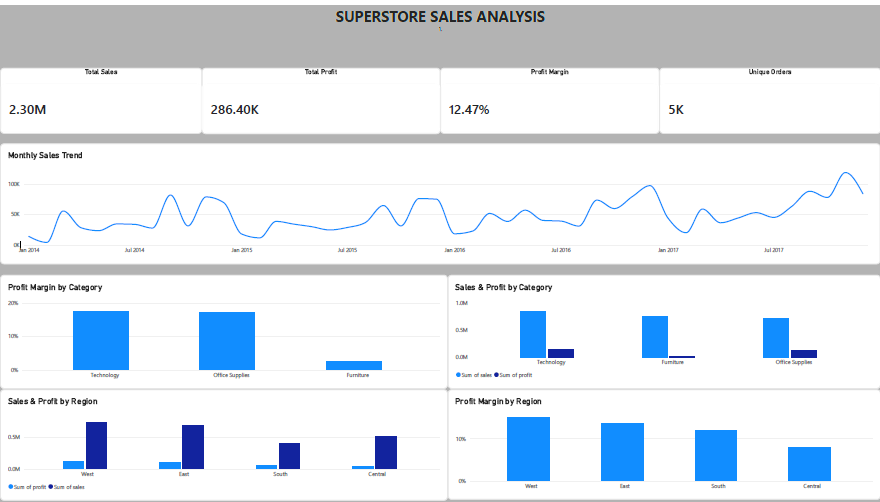

What the dashboard file says about the page in this screenshot:
{"tool":"powerbi","page":{"name":"Superstore Sales Analysis","canvas":[1920,1080],"ordinal":1},"visuals":[{"type":"textbox","box":[0,0,1920,279.9],"z":0},{"type":"cardVisual","title":"Total Sales","fields":{"Data":["Sum(public orders.sales)"]},"box":[0,136.3,440,142.5],"z":1000},{"type":"cardVisual","title":"Total Profit","fields":{"Data":["Sum(public orders.profit)"]},"box":[439.9,136.3,520.3,143.7],"z":2000},{"type":"cardVisual","title":"Profit Margin","fields":{"Data":["public orders.Profit Margin"]},"box":[960.1,136.3,477.5,142.5],"z":3000},{"type":"cardVisual","title":"Unique Orders","fields":{"Data":["public orders.Uniquie Orders"]},"box":[1437.5,136.3,482.5,142.5],"z":4000},{"type":"lineChart","title":"Monthly Sales Trend","fields":{"Y":["Sum(public orders.sales)"],"Category":["public orders.order_date.Variation.Date Hierarchy.Year","public orders.order_date.Variation.Date Hierarchy.Month"]},"box":[0,302.2,1920,262.6],"z":5000},{"type":"clusteredColumnChart","title":"Sales & Profit by Category","fields":{"Category":["public orders.category"],"Y":["Sum(public orders.sales)","Sum(public orders.profit)"]},"box":[976,588,944,248],"z":6000},{"type":"clusteredColumnChart","title":"Profit Margin by Category","fields":{"Category":["public orders.category"],"Y":["public orders.Profit Margin"]},"box":[0,588,976,248],"z":7000},{"type":"clusteredColumnChart","title":"Sales & Profit by Region","fields":{"Category":["public orders.region"],"Y":["Sum(public orders.profit)","Sum(public orders.sales)"]},"box":[0,838,976,242],"z":8000},{"type":"clusteredColumnChart","title":"Profit Margin by Region","fields":{"Category":["public orders.region"],"Y":["public orders.Profit Margin"]},"box":[976,838,944,240],"z":9000}]}

Visuals, with their boxes in screenshot pixels (x1, y1, x2, y2), scaled from the page's 1920x1080 canvas onto the 880x502 screenshot:
textbox: [0, 0, 879, 130]
"Total Sales" cardVisual: [0, 63, 202, 130]
"Total Profit" cardVisual: [202, 63, 440, 130]
"Profit Margin" cardVisual: [440, 63, 659, 130]
"Unique Orders" cardVisual: [659, 63, 879, 130]
"Monthly Sales Trend" lineChart: [0, 140, 879, 263]
"Sales & Profit by Category" clusteredColumnChart: [447, 273, 879, 389]
"Profit Margin by Category" clusteredColumnChart: [0, 273, 447, 389]
"Sales & Profit by Region" clusteredColumnChart: [0, 390, 447, 501]
"Profit Margin by Region" clusteredColumnChart: [447, 390, 879, 501]
